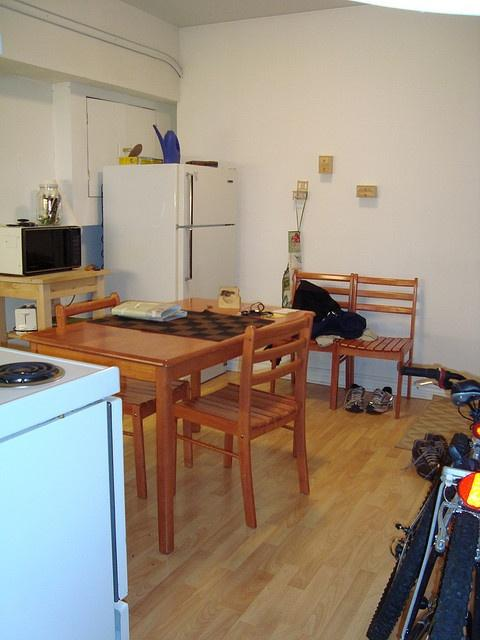Kursi: (173, 314, 313, 529), (332, 272, 419, 419), (305, 268, 353, 411)
Meja: (20, 295, 315, 398)
